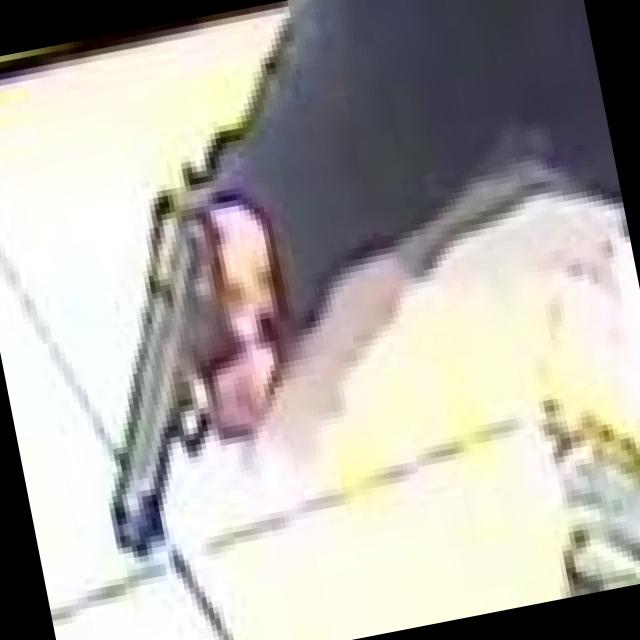Guns: (34, 124, 324, 567)
